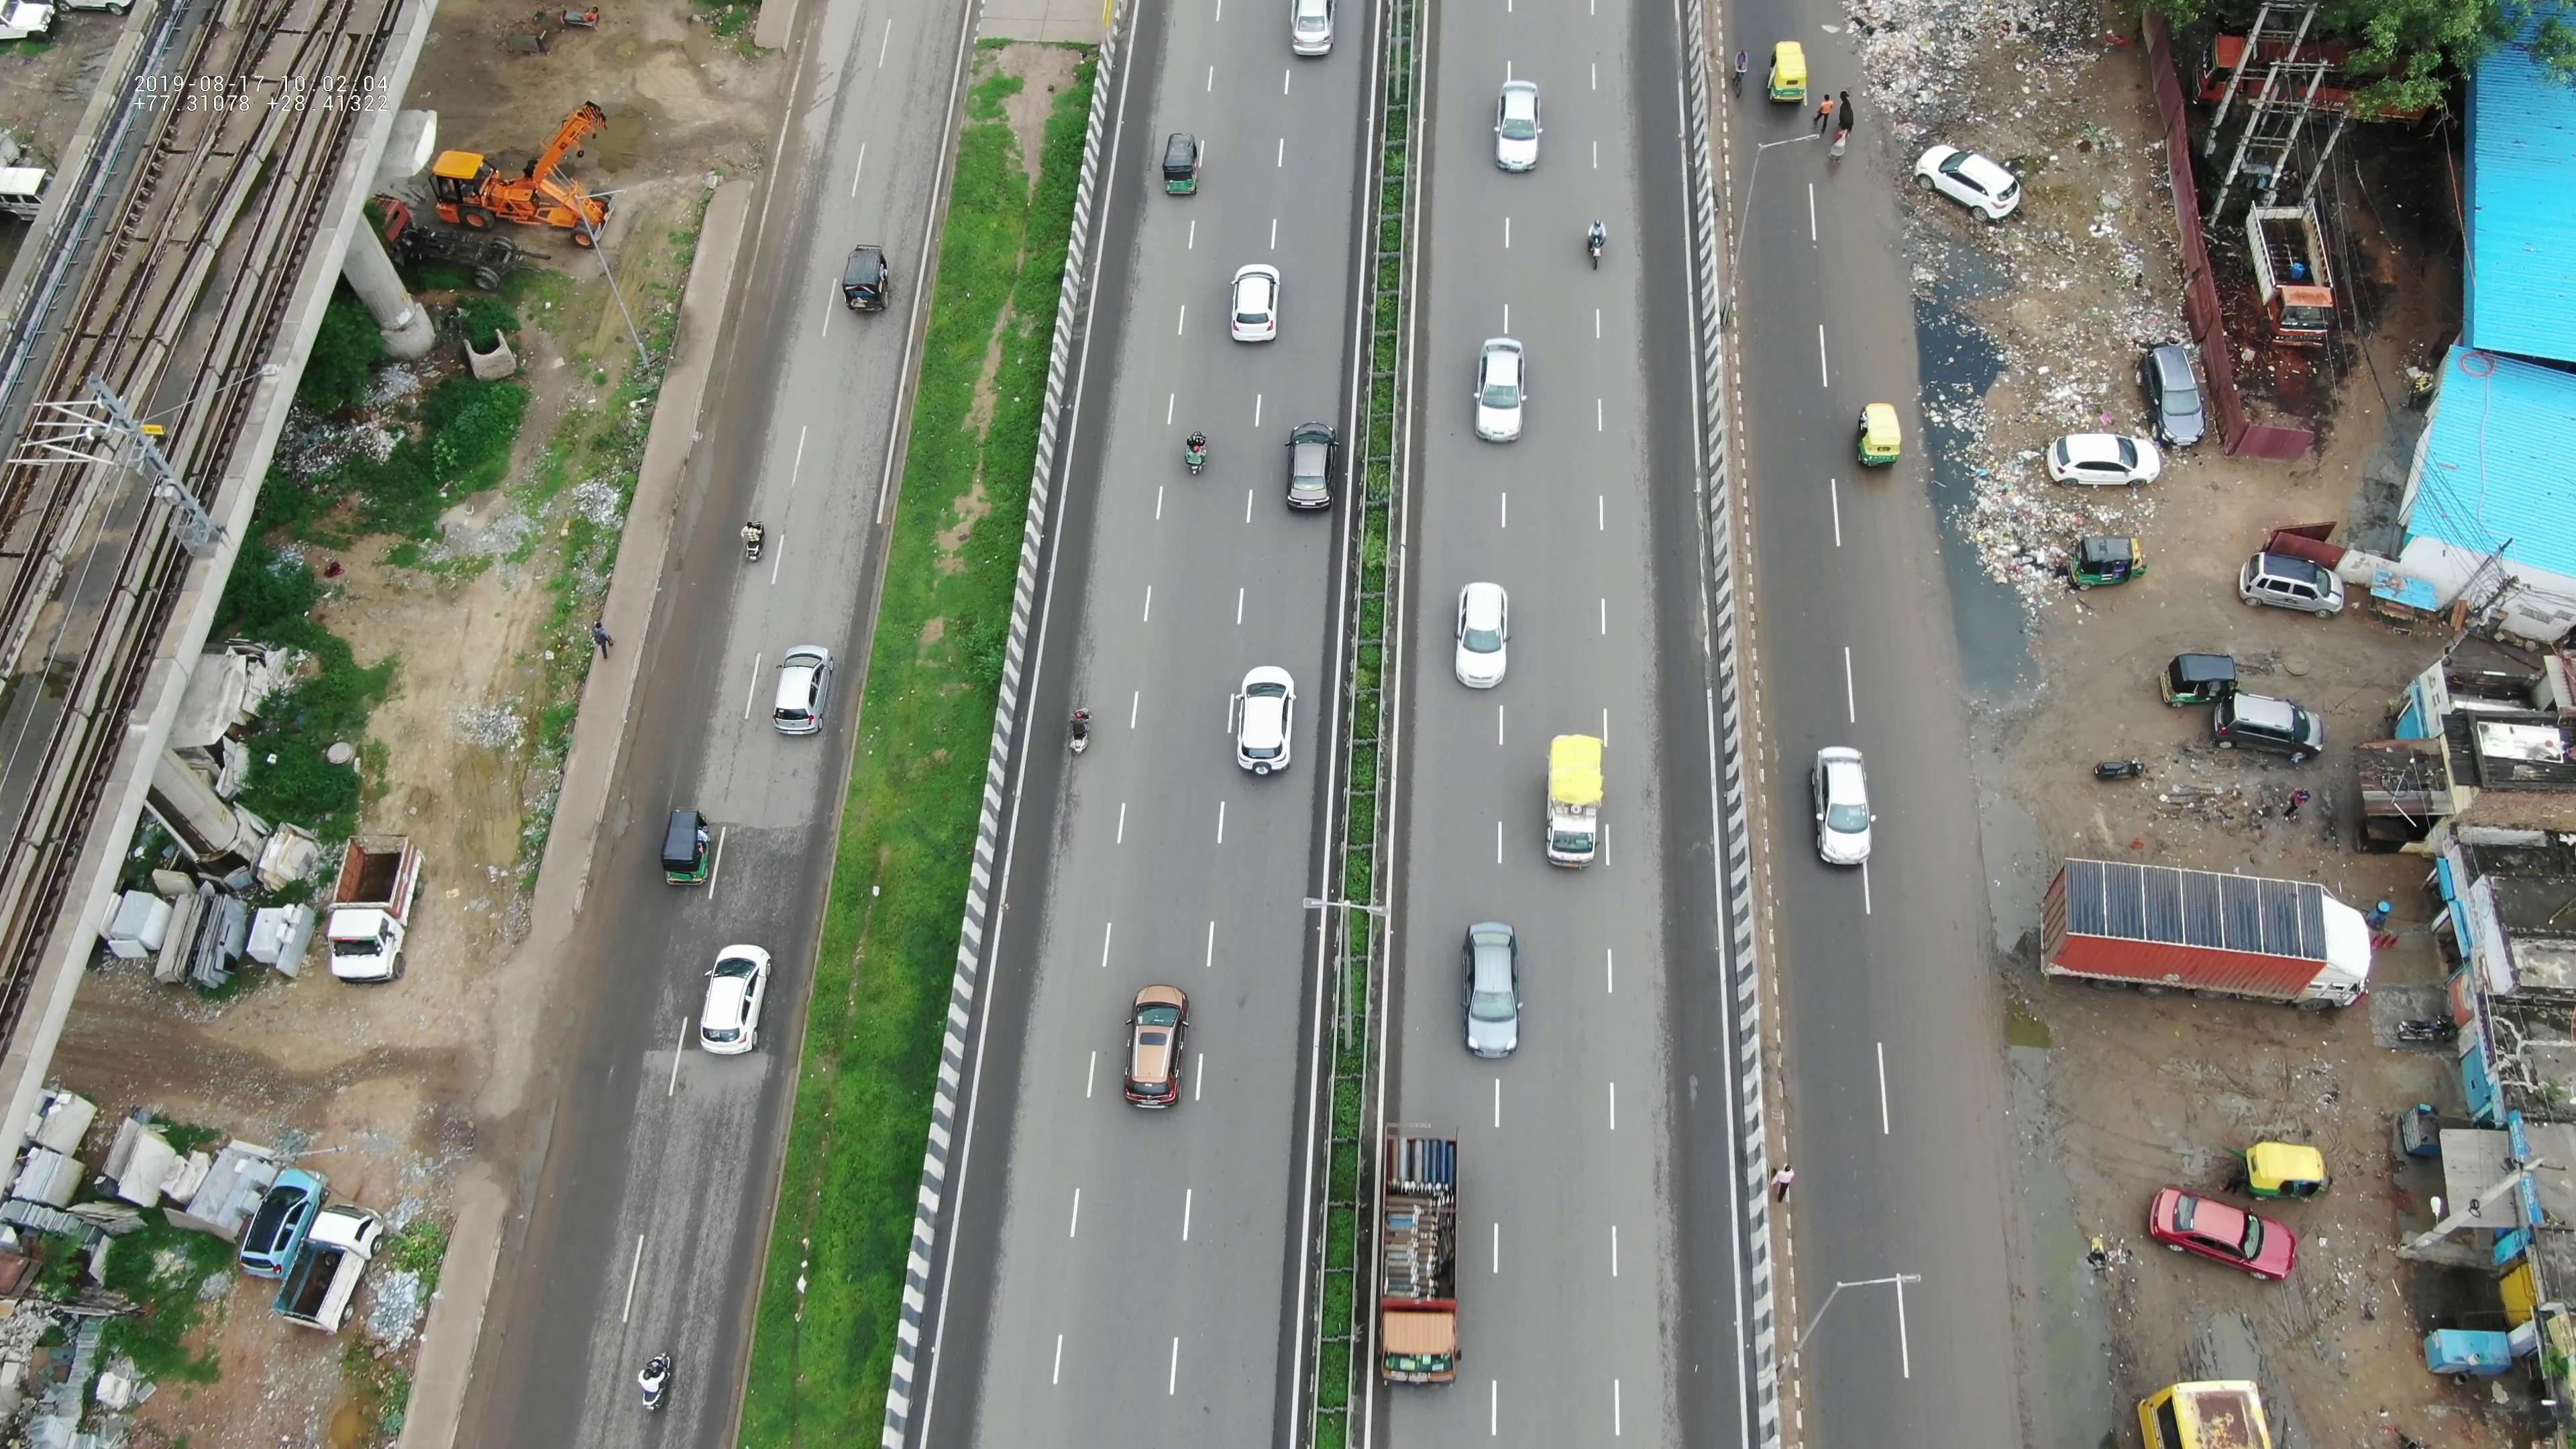Road_side_garbage: (1845, 7, 2120, 138)
Waterlogging: (1898, 290, 2035, 692)
